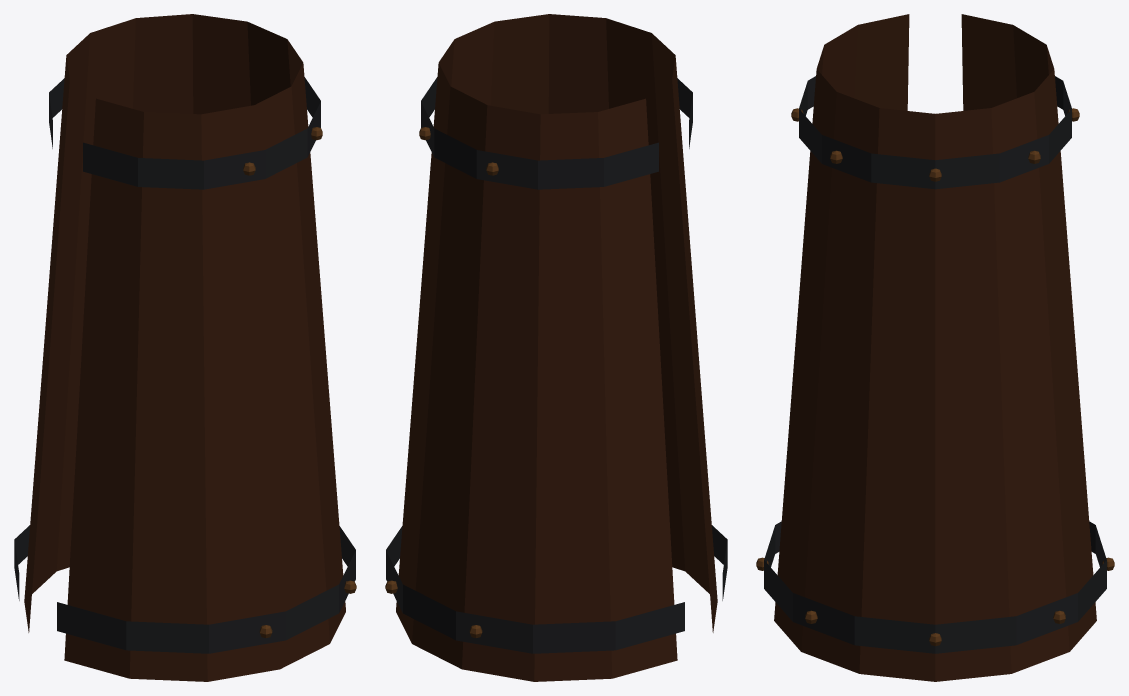
The model's file is bracer_LOD1.obj.
The picture shows the model from 3 angles, left to right: view 1: azimuth 30°, elevation 25°; view 2: azimuth 150°, elevation 25°; view 3: azimuth 270°, elevation 25°; orthographic projection.
Parts seen in each view (by area): view 1: RatiborBracer_LOD1; view 2: RatiborBracer_LOD1; view 3: RatiborBracer_LOD1.
Boxes of the visible parts, left/top/right/bottom form: RatiborBracer_LOD1: left=14, top=14, right=356, bottom=681; RatiborBracer_LOD1: left=385, top=14, right=727, bottom=681; RatiborBracer_LOD1: left=756, top=14, right=1114, bottom=681.
Bounding box in the file's own units: 0.1952 × 0.34 × 0.2008.
